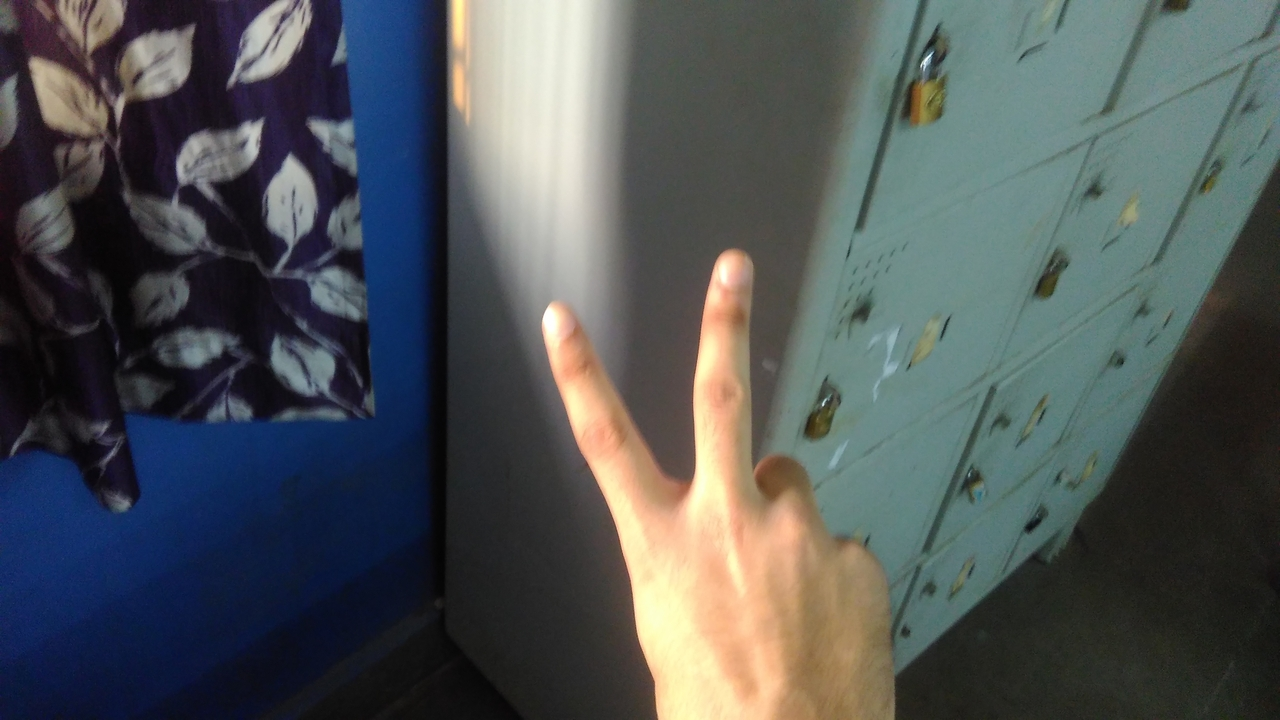fingertip: (702, 240, 760, 306), (530, 294, 584, 350)
